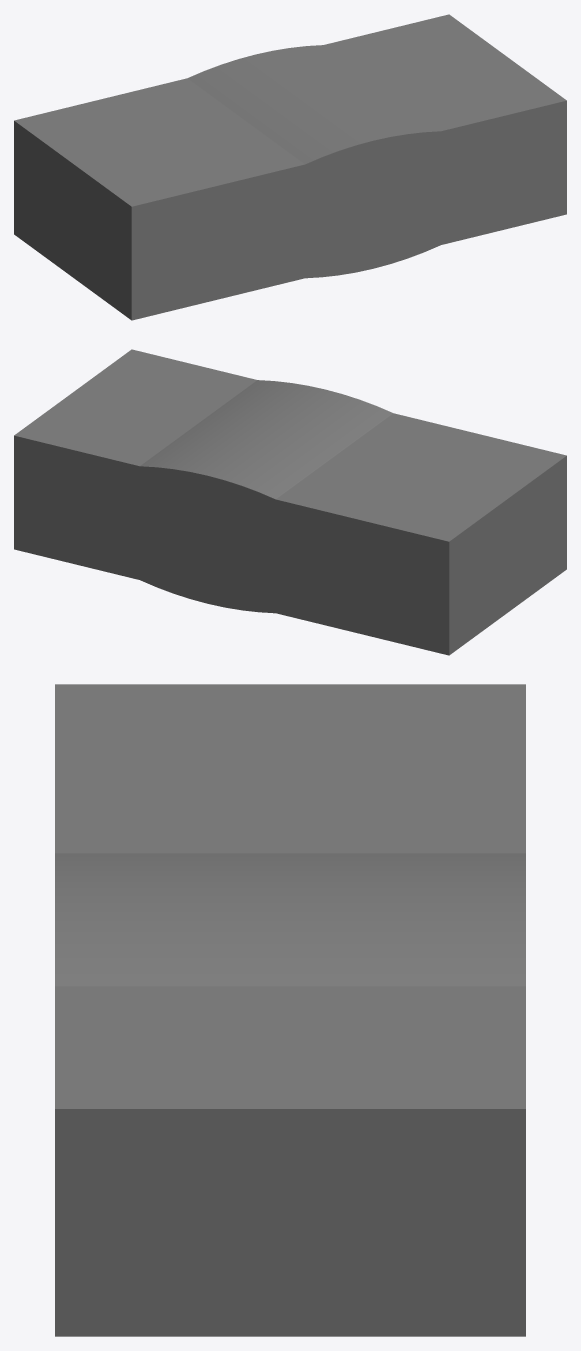
3 renders of one model, top to bottom at view 1: azimuth 30°, elevation 25°; view 2: azimuth 150°, elevation 25°; view 3: azimuth 270°, elevation 25°, orthographic. The views are drawn at different scales.
Visible parts, largest first — view 1: mesh_id4, mesh_id5; view 2: mesh_id4, mesh_id5; view 3: mesh_id4, mesh_id5.
Part boxes in pixels (x1=…): mesh_id4: x1=14, y1=14, x2=566, y2=320; mesh_id5: x1=187, y1=45, x2=440, y2=278; mesh_id4: x1=14, y1=349, x2=566, y2=655; mesh_id5: x1=140, y1=380, x2=393, y2=613; mesh_id4: x1=55, y1=684, x2=525, y2=1336; mesh_id5: x1=55, y1=853, x2=525, y2=986.
Size of the model in its own units: 0.512 by 0.144 by 0.24.
2 materials, 2 textured.
